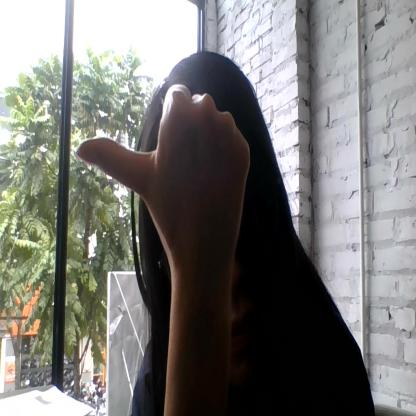right: (75, 82, 251, 282)
